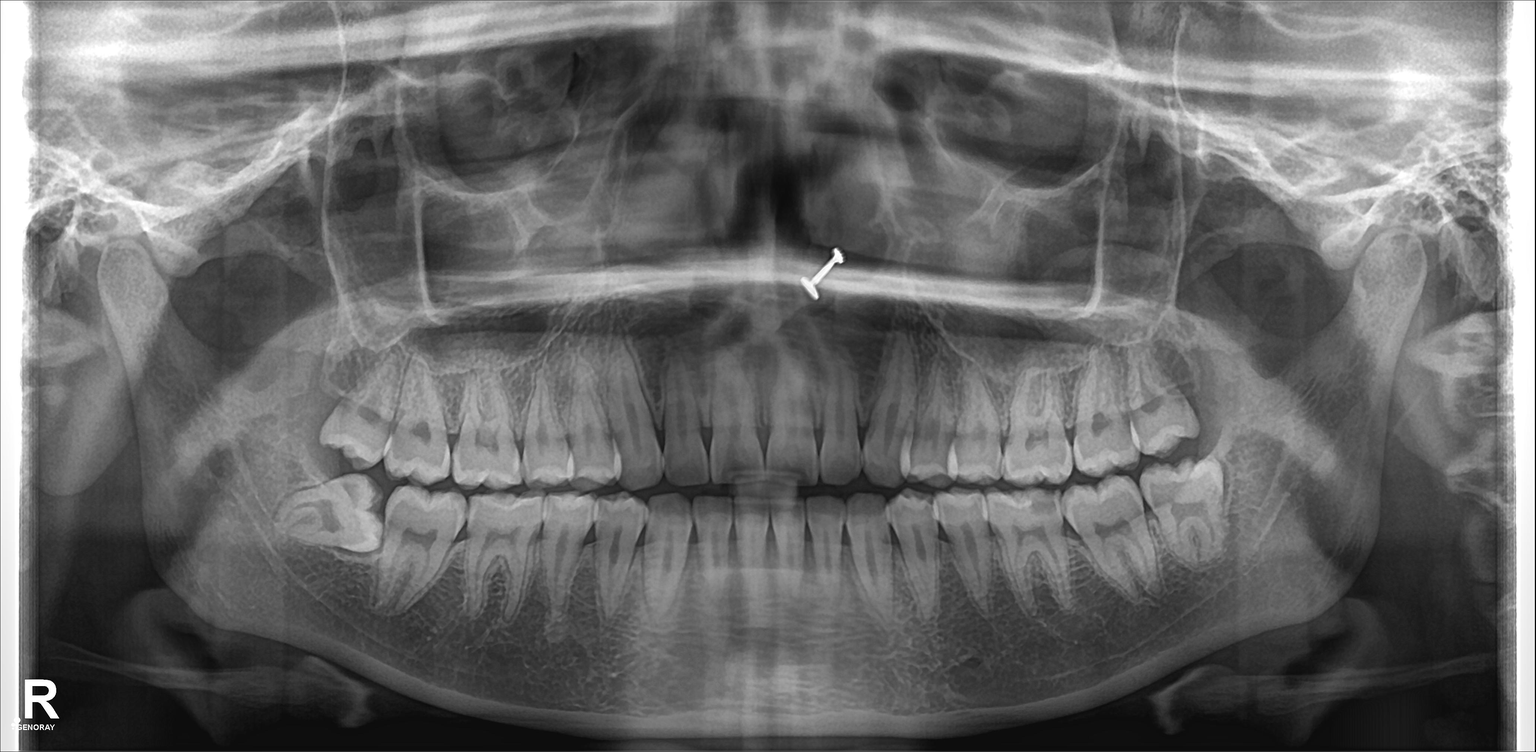Dental Caries: (1035, 493, 1053, 521)
Impacted Third Molar: (279, 477, 387, 550)
